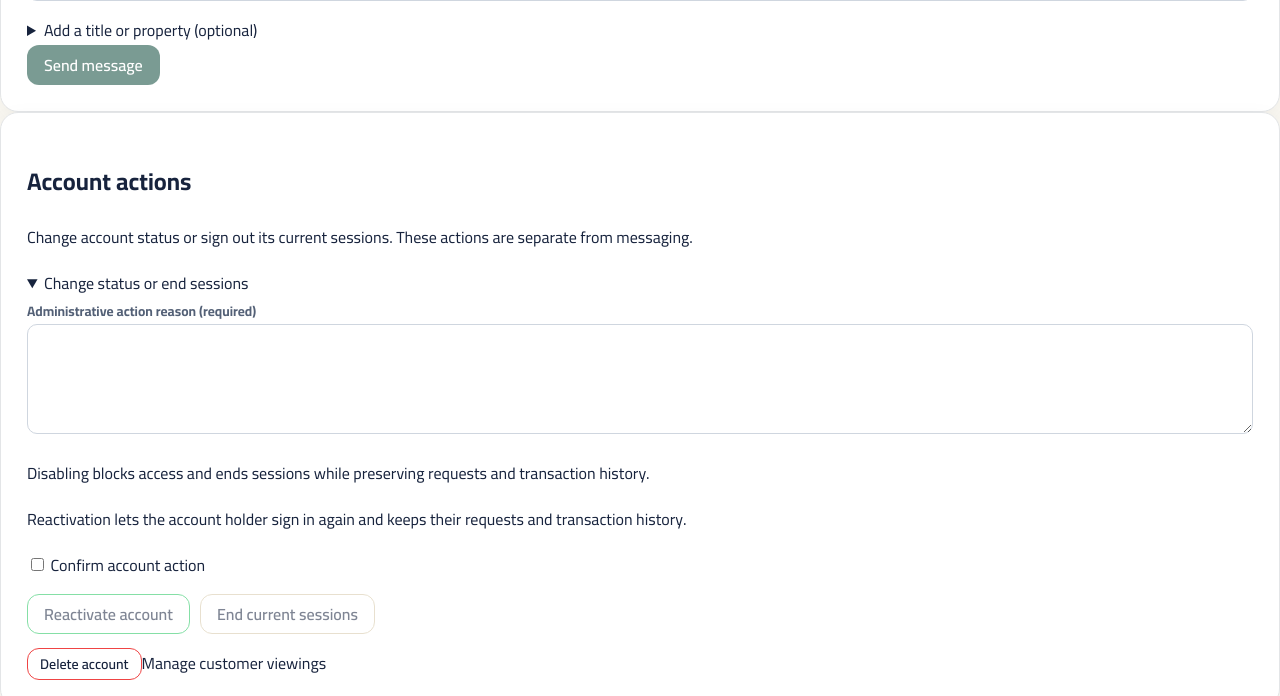
Test: simplified account messaging and actions › reactivates suspended providers through coherent provider review and preserves a failed reason in en
This screenshot has width=1280, height=696.
(page scrolled)
Check: the button "Reactivate account" is disabled, box [27,594,190,634]
In the text box labelled "Administrative action reason (required)": (640, 379) [27,324,1253,434], type "Reviewed suspension"
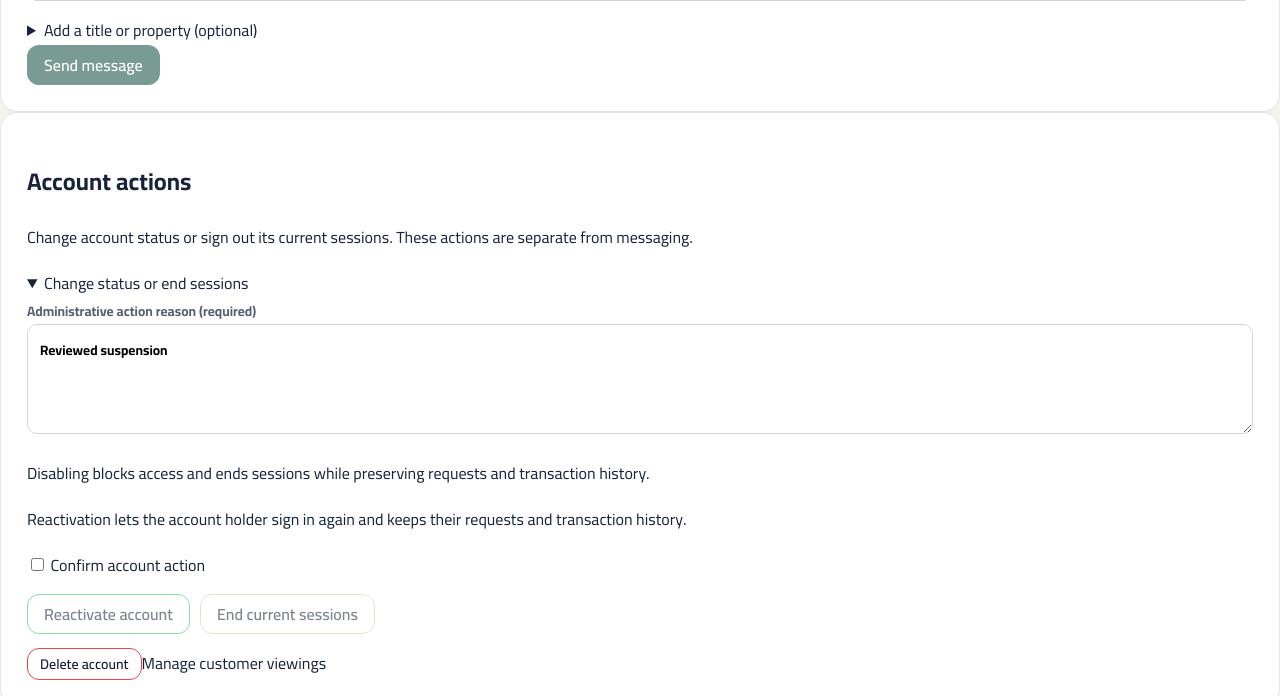
Check: the button "Reactivate account" is disabled, box [27,594,190,634]
Click the checkbox: click(38, 564) [31,558,44,571]
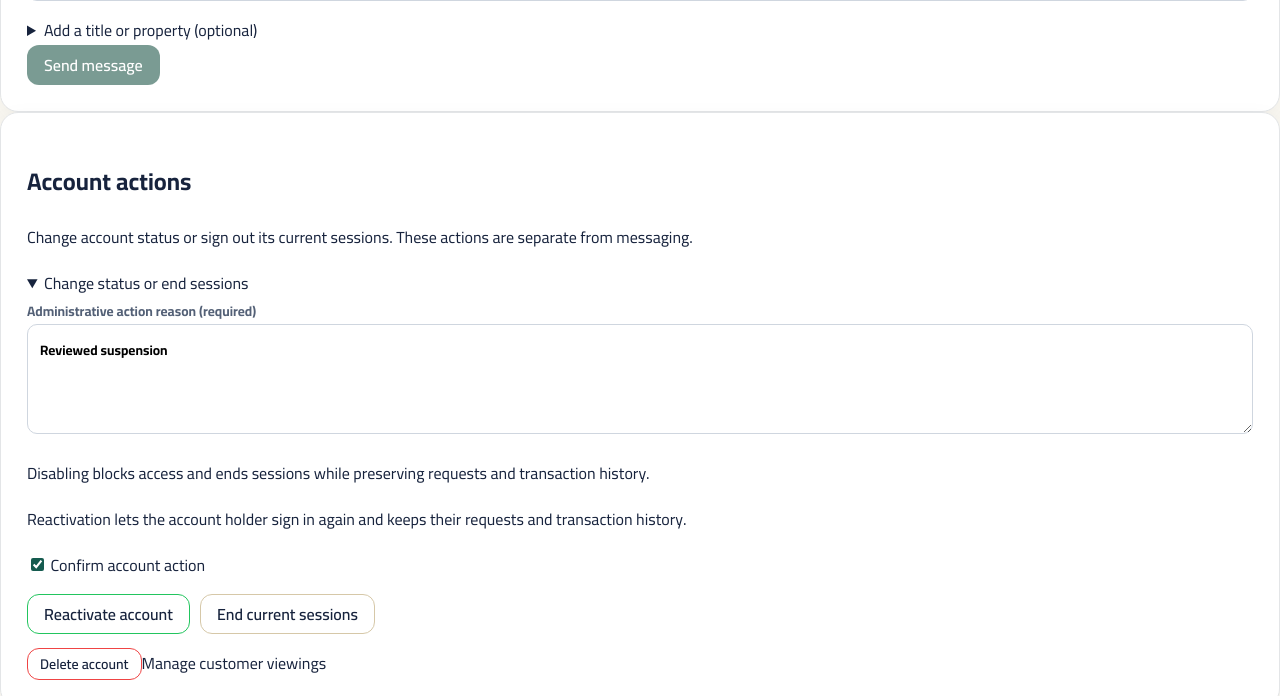
Click the button "Reactivate account": click(108, 614) [27,594,190,634]
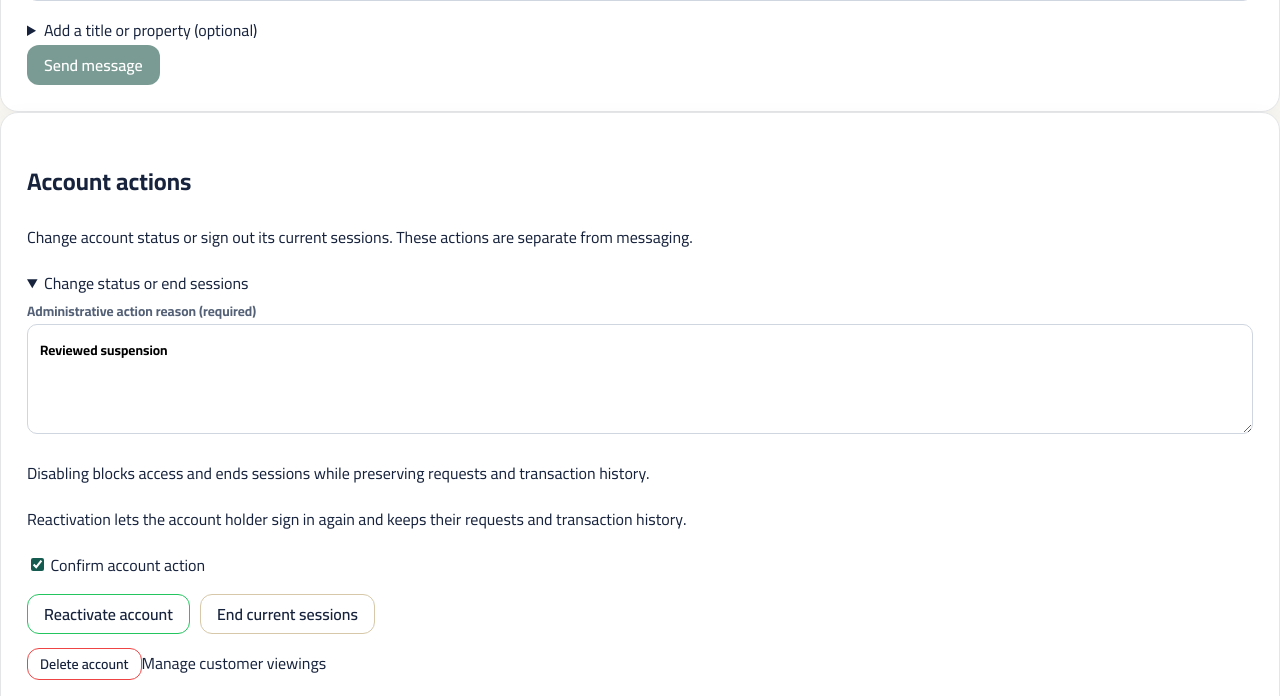
Check: the checkbox is checked, box [31,558,44,571]
Click the button "Reactivate account": click(108, 614) [27,594,190,634]
(page scrolled)
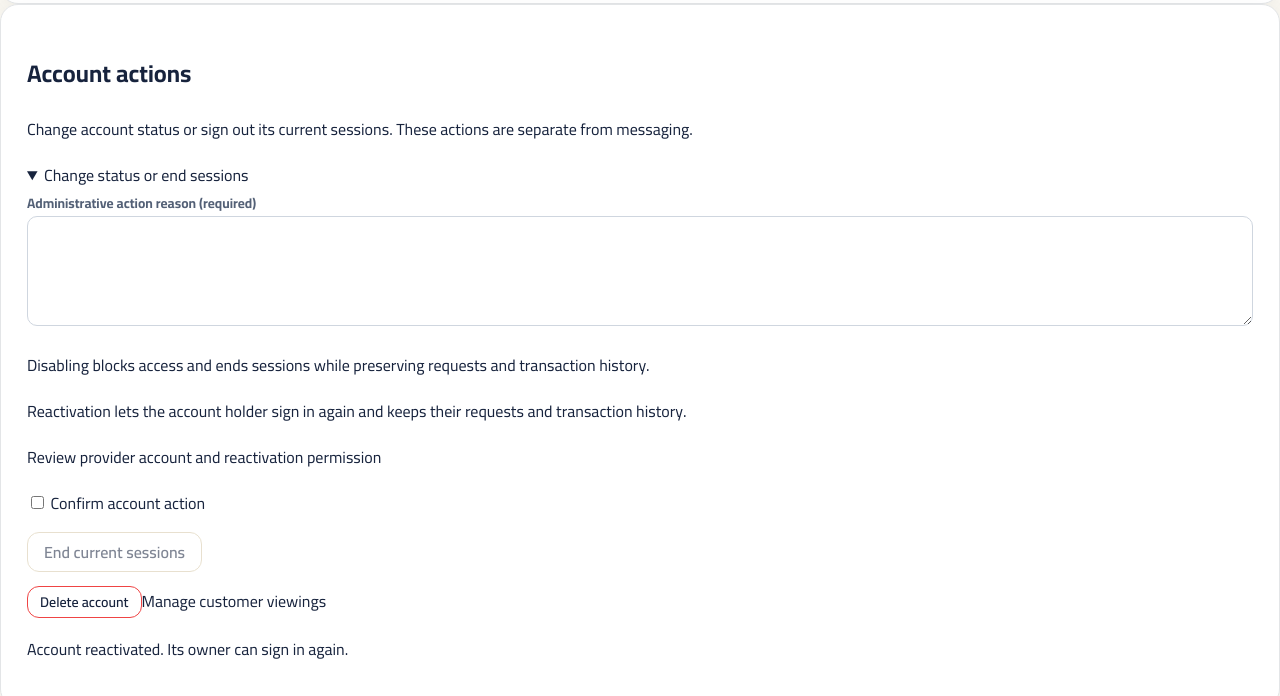
Check: the checkbox is not checked, box [31,496,44,509]
Check: the text box labelled "Administrative action reason (required)" is empty, box [27,216,1253,326]
Check: the message shows "Account reactivated", box [27,634,348,664]
